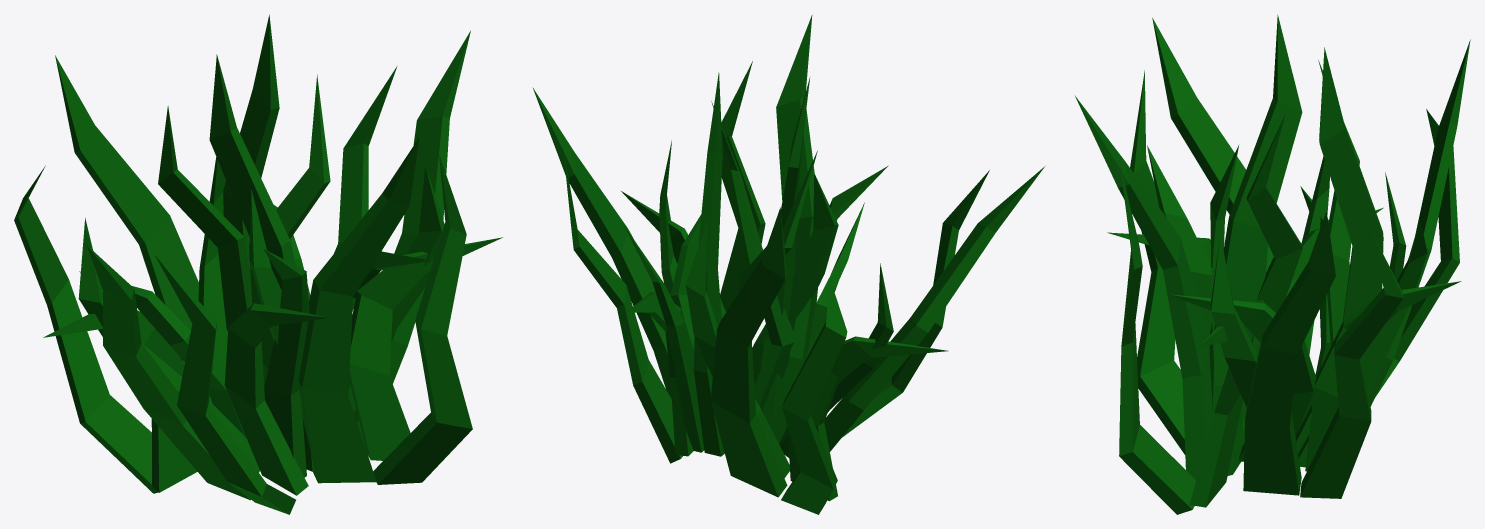
The model's file is grass.fbx.
3 views of the same model, side by side, from view 1: azimuth 30°, elevation 25°; view 2: azimuth 150°, elevation 25°; view 3: azimuth 270°, elevation 25° (orthographic). The views are drawn at different scales.
Visible parts, largest first — view 1: Cube; view 2: Cube; view 3: Cube.
Part boxes in pixels (left/top/right/bottom): Cube: left=14, top=14, right=502, bottom=514; Cube: left=532, top=15, right=1044, bottom=514; Cube: left=1075, top=14, right=1470, bottom=514.
Size of the model in its own units: 145 by 134 by 106.
